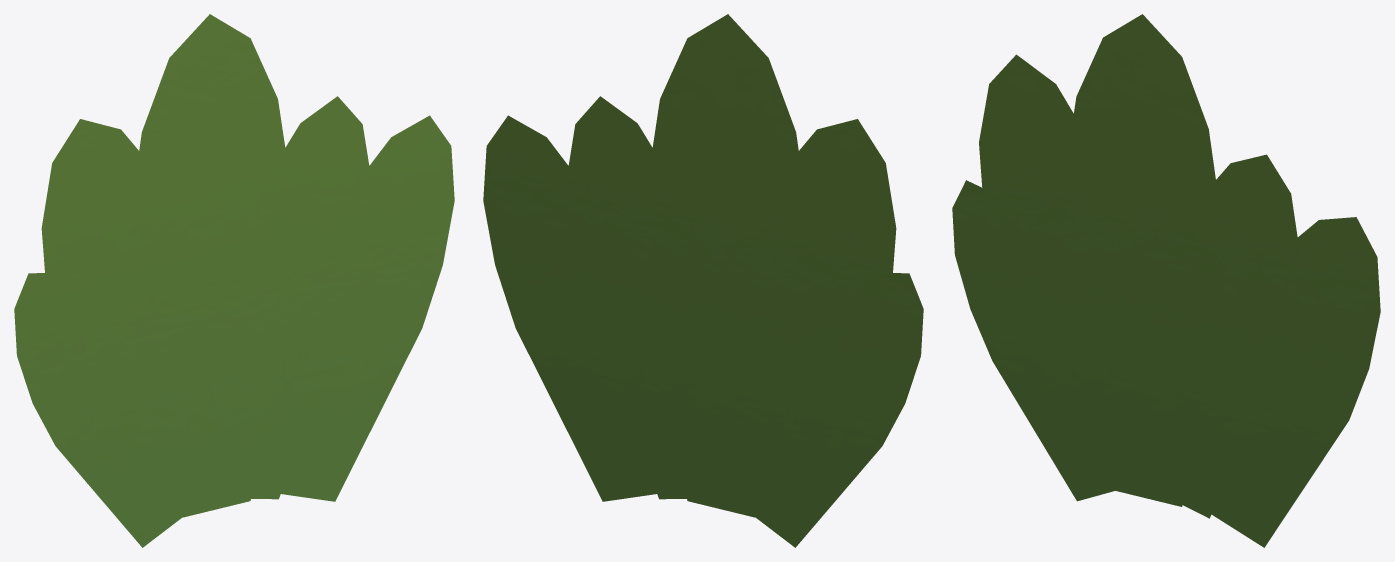
Rendered from grassMeshes.fbx.
3 renders of one model, left to right at view 1: azimuth 30°, elevation 25°; view 2: azimuth 150°, elevation 25°; view 3: azimuth 330°, elevation 25°, orthographic. The views are drawn at different scales.
Visible parts, largest first — view 1: Plane, Plane.004, Plane.001; view 2: Plane, Plane.004, Plane.001; view 3: Plane, Plane.004, Plane.001.
Part boxes in pixels (box(x1,y1,x2,y2)): Plane: box(14, 18, 454, 547); Plane.004: box(41, 96, 370, 533); Plane.001: box(130, 14, 289, 520); Plane: box(483, 18, 923, 547); Plane.004: box(567, 96, 896, 533); Plane.001: box(648, 14, 807, 520); Plane: box(952, 20, 1380, 547); Plane.004: box(979, 54, 1297, 518); Plane.001: box(1064, 14, 1220, 506).
Bounding box in the file's own units: 199 × 224 × 2.78e-05.
Materials: 1 (1 with a texture image).
